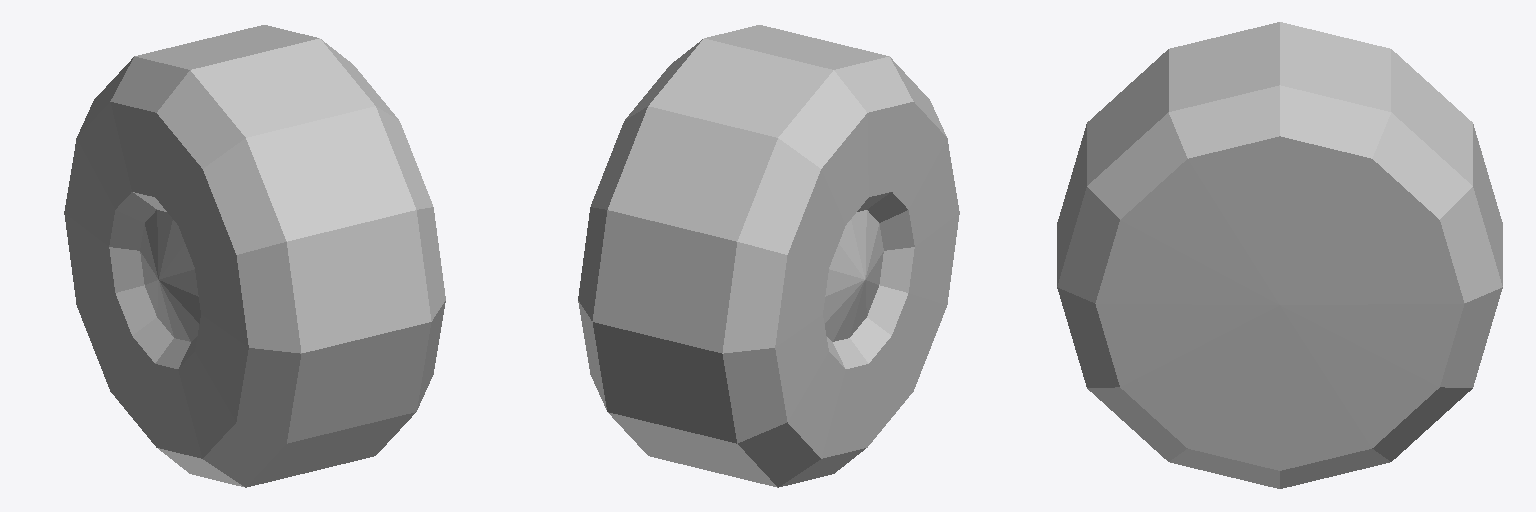
Rendered from spacetruck_trailer_wheel_rear_right.obj.
3 renders of one model, left to right at view 1: azimuth 30°, elevation 25°; view 2: azimuth 150°, elevation 25°; view 3: azimuth 270°, elevation 25°, orthographic.
Parts seen in each view (by area): view 1: spacetruck_trailer_wheel_rear_right_Cylinder.2709; view 2: spacetruck_trailer_wheel_rear_right_Cylinder.2709; view 3: spacetruck_trailer_wheel_rear_right_Cylinder.2709.
Boxes of the visible parts, x1=… form: spacetruck_trailer_wheel_rear_right_Cylinder.2709: x1=64, y1=25, x2=445, y2=487; spacetruck_trailer_wheel_rear_right_Cylinder.2709: x1=578, y1=25, x2=959, y2=487; spacetruck_trailer_wheel_rear_right_Cylinder.2709: x1=1057, y1=22, x2=1502, y2=488.
Bounding box in the file's own units: 0.0916 × 0.1754 × 0.1754.